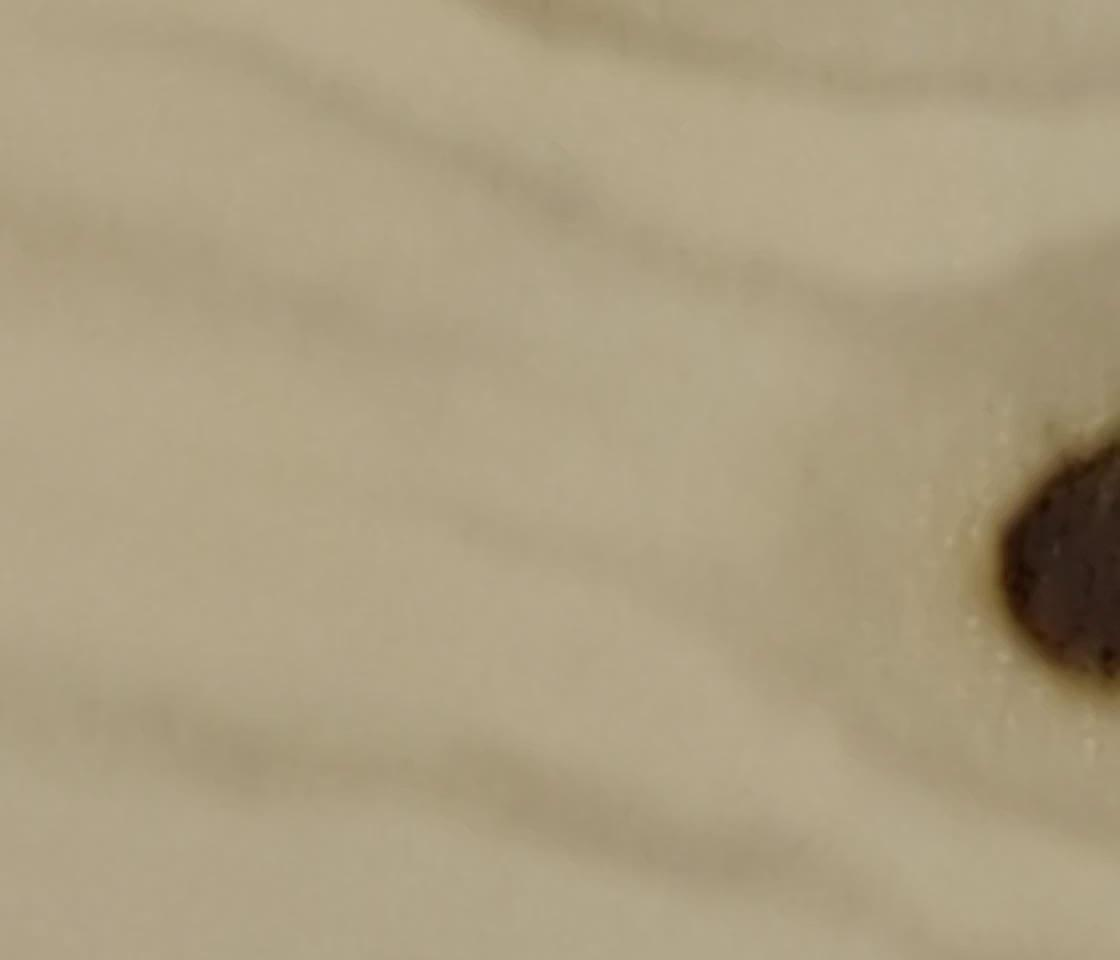rust: (1000, 420, 1120, 699)
